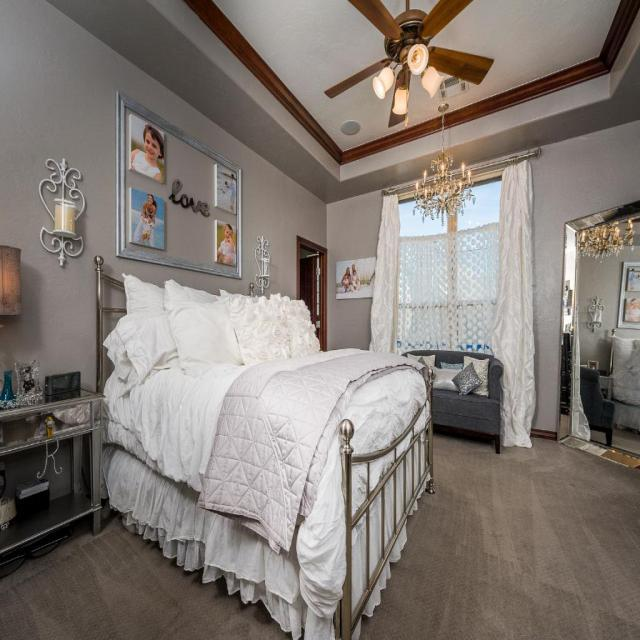bulb_on: (376, 80, 388, 100), (411, 52, 426, 68)
fan_off: (318, 0, 493, 131)
